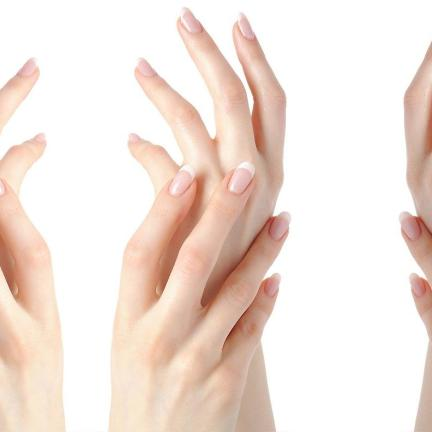Nail: (228, 161, 255, 194), (169, 164, 196, 195), (268, 211, 292, 240), (398, 211, 422, 240), (180, 6, 202, 33), (237, 11, 254, 39), (264, 272, 281, 297), (409, 272, 426, 297), (136, 56, 156, 77), (18, 56, 38, 77), (128, 133, 141, 142), (33, 133, 46, 142), (0, 178, 5, 195)
